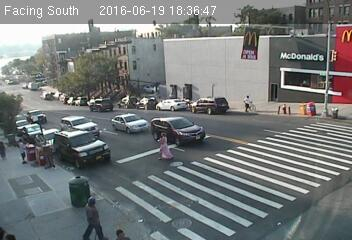neg: (229, 169, 261, 212), (196, 74, 226, 115), (141, 90, 165, 121), (34, 80, 57, 111), (66, 174, 89, 204), (117, 41, 140, 71), (89, 78, 108, 104), (234, 30, 252, 54), (194, 178, 211, 202), (297, 48, 314, 71), (322, 38, 339, 61), (76, 124, 93, 146), (162, 36, 178, 58), (177, 209, 193, 230), (331, 105, 347, 126), (263, 113, 278, 133), (302, 100, 317, 120), (300, 149, 315, 169), (35, 45, 50, 65), (318, 73, 331, 90), (266, 77, 278, 94), (278, 100, 289, 115)
pos: (76, 193, 110, 238), (153, 130, 177, 163), (11, 137, 31, 164), (239, 93, 254, 112)
